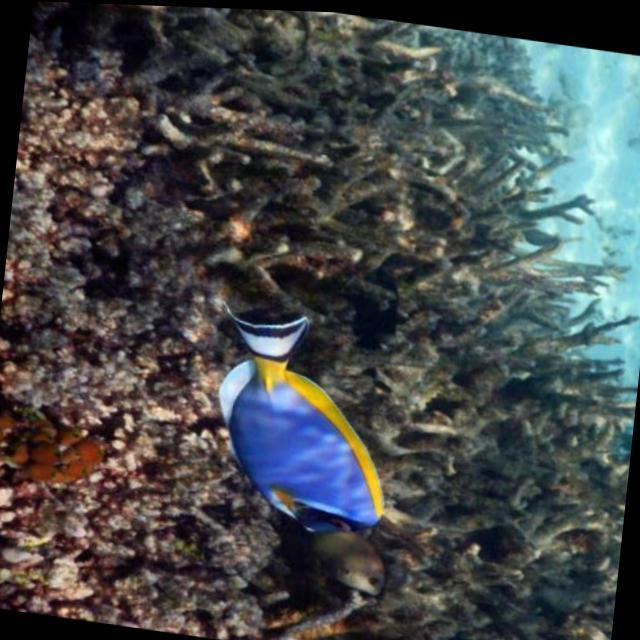Dead Coral: (400, 2, 640, 640), (161, 1, 590, 300)
